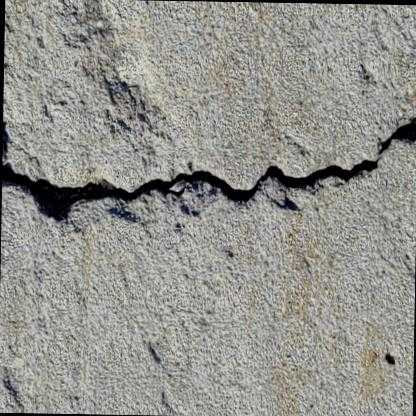crack: (0, 111, 416, 212)
